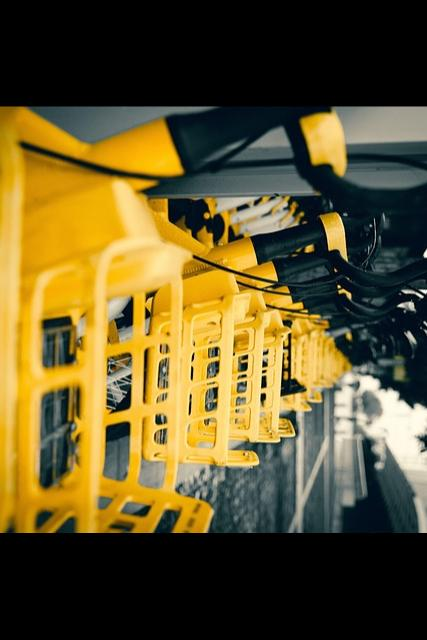Non_Gorille: (0, 106, 393, 531)
